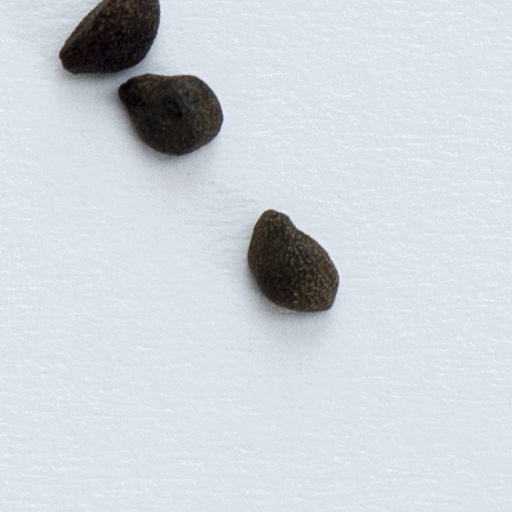Convolvulus-poly: (111, 71, 225, 166), (248, 206, 341, 315), (56, 0, 162, 83)
